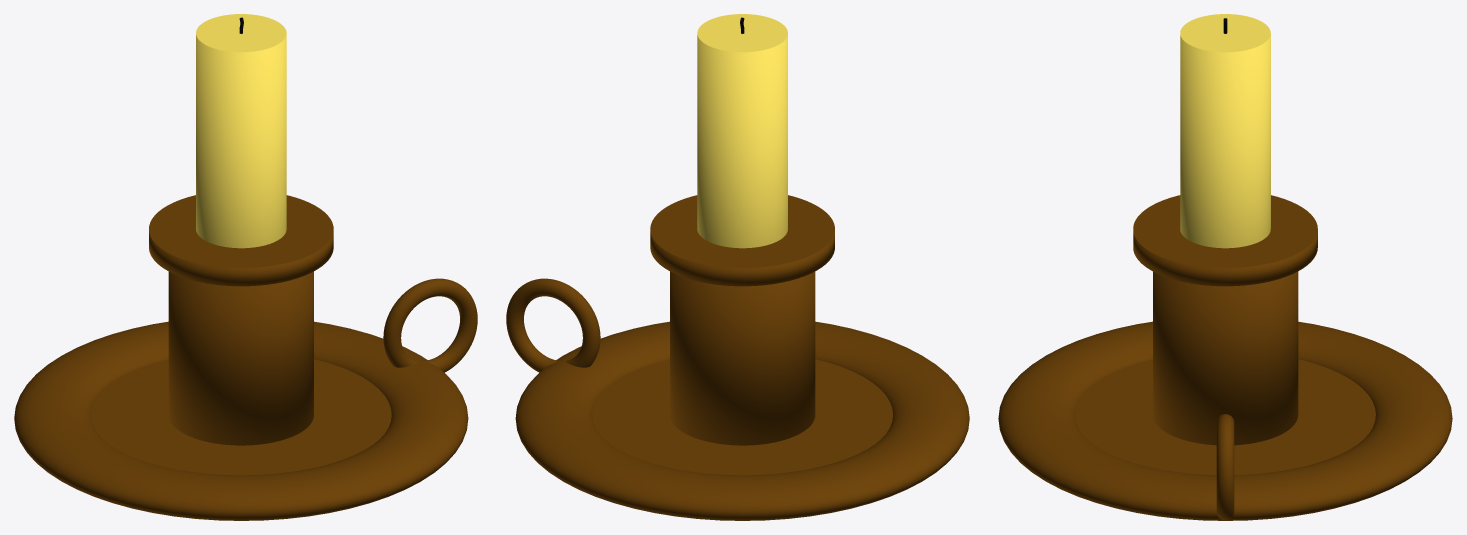
Rendered from CandleStick.obj.
3 renders of one model, left to right at view 1: azimuth 30°, elevation 25°; view 2: azimuth 150°, elevation 25°; view 3: azimuth 270°, elevation 25°, orthographic.
Parts seen in each view (by area): view 1: Torus, Cylinder.002, Cylinder, Cylinder.001, Cylinder.003, Torus.002; view 2: Torus, Cylinder.002, Cylinder, Cylinder.001, Cylinder.003, Torus.002; view 3: Torus, Cylinder.002, Cylinder, Cylinder.001, Cylinder.003, Torus.002.
Boxes of the visible parts, <box> form: Torus: <box>14,321,468,520</box>; Cylinder.002: <box>168,271,313,445</box>; Cylinder: <box>196,14,286,248</box>; Cylinder.001: <box>91,359,391,475</box>; Cylinder.003: <box>149,195,333,286</box>; Torus.002: <box>383,278,477,372</box>; Torus: <box>515,321,969,520</box>; Cylinder.002: <box>670,271,815,445</box>; Cylinder: <box>697,14,787,248</box>; Cylinder.001: <box>592,359,892,475</box>; Cylinder.003: <box>650,195,834,286</box>; Torus.002: <box>506,278,600,372</box>; Torus: <box>998,321,1452,520</box>; Cylinder.002: <box>1153,271,1298,445</box>; Cylinder: <box>1180,14,1270,248</box>; Cylinder.001: <box>1075,359,1375,474</box>; Cylinder.003: <box>1133,195,1317,286</box>; Torus.002: <box>1216,414,1234,520</box>.
Bounding box in the file's own units: 5.9 × 5.44 × 5.38.
